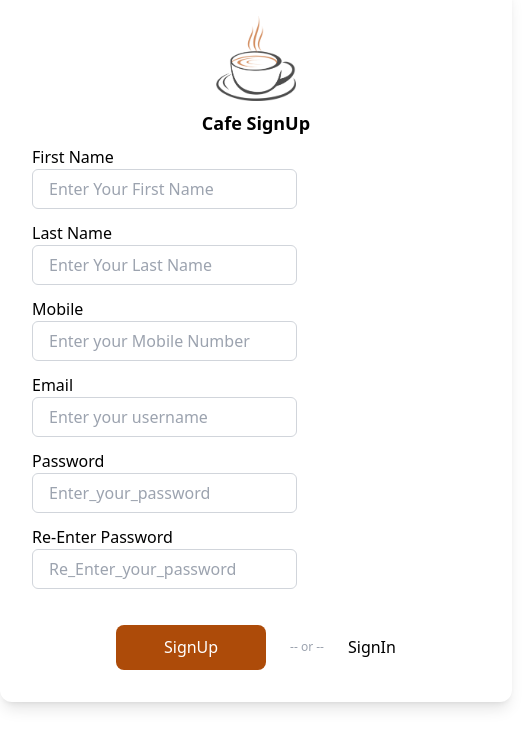
Test: Testing Cafe SignUp Page › shows error for invalid mobile
Type "123" into the field with placeholder "Enter your Mobile Number" at (164, 341), box [32,321,297,361]
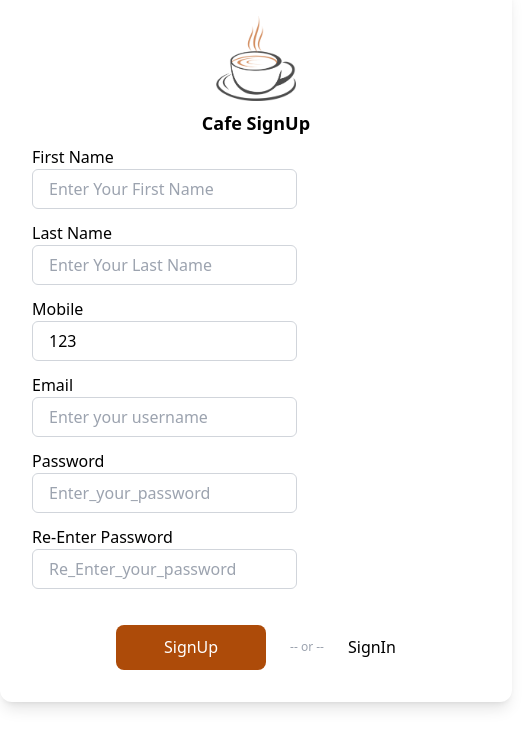
Leave the field with placeholder "Enter your Mobile Number", box [32,321,297,361]
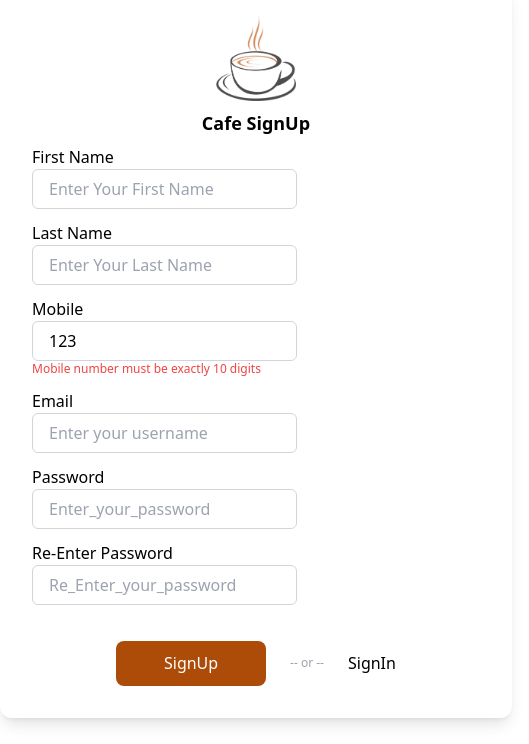
Now the text "Mobile number must be exactly 10 digits" is shown, box [32,361,297,377]
